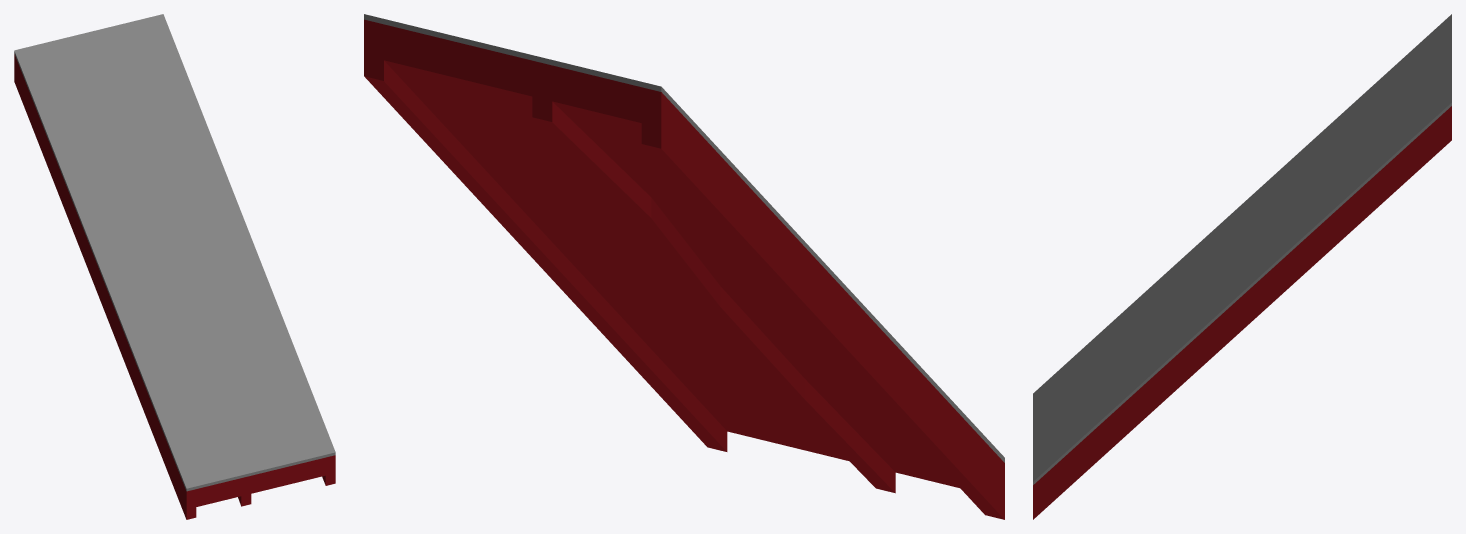
The model's file is SM_MH_01_Slate_Roof_Half_01.fbx.
3 views of the same model, side by side, from view 1: azimuth 30°, elevation 25°; view 2: azimuth 150°, elevation 25°; view 3: azimuth 270°, elevation 25° (orthographic). The views are drawn at different scales.
Visible parts, largest first — view 1: SM_MH_01_Slate_Roof_Half_01_LOD0; view 2: SM_MH_01_Slate_Roof_Half_01_LOD0; view 3: SM_MH_01_Slate_Roof_Half_01_LOD0.
Part boxes in pixels (x1,y1,x2,y2): SM_MH_01_Slate_Roof_Half_01_LOD0: (14,14,335,519); SM_MH_01_Slate_Roof_Half_01_LOD0: (364,14,1004,519); SM_MH_01_Slate_Roof_Half_01_LOD0: (1033,14,1451,519).
Size of what is drawn, in the model's own units: 150 by 330 by 300.
